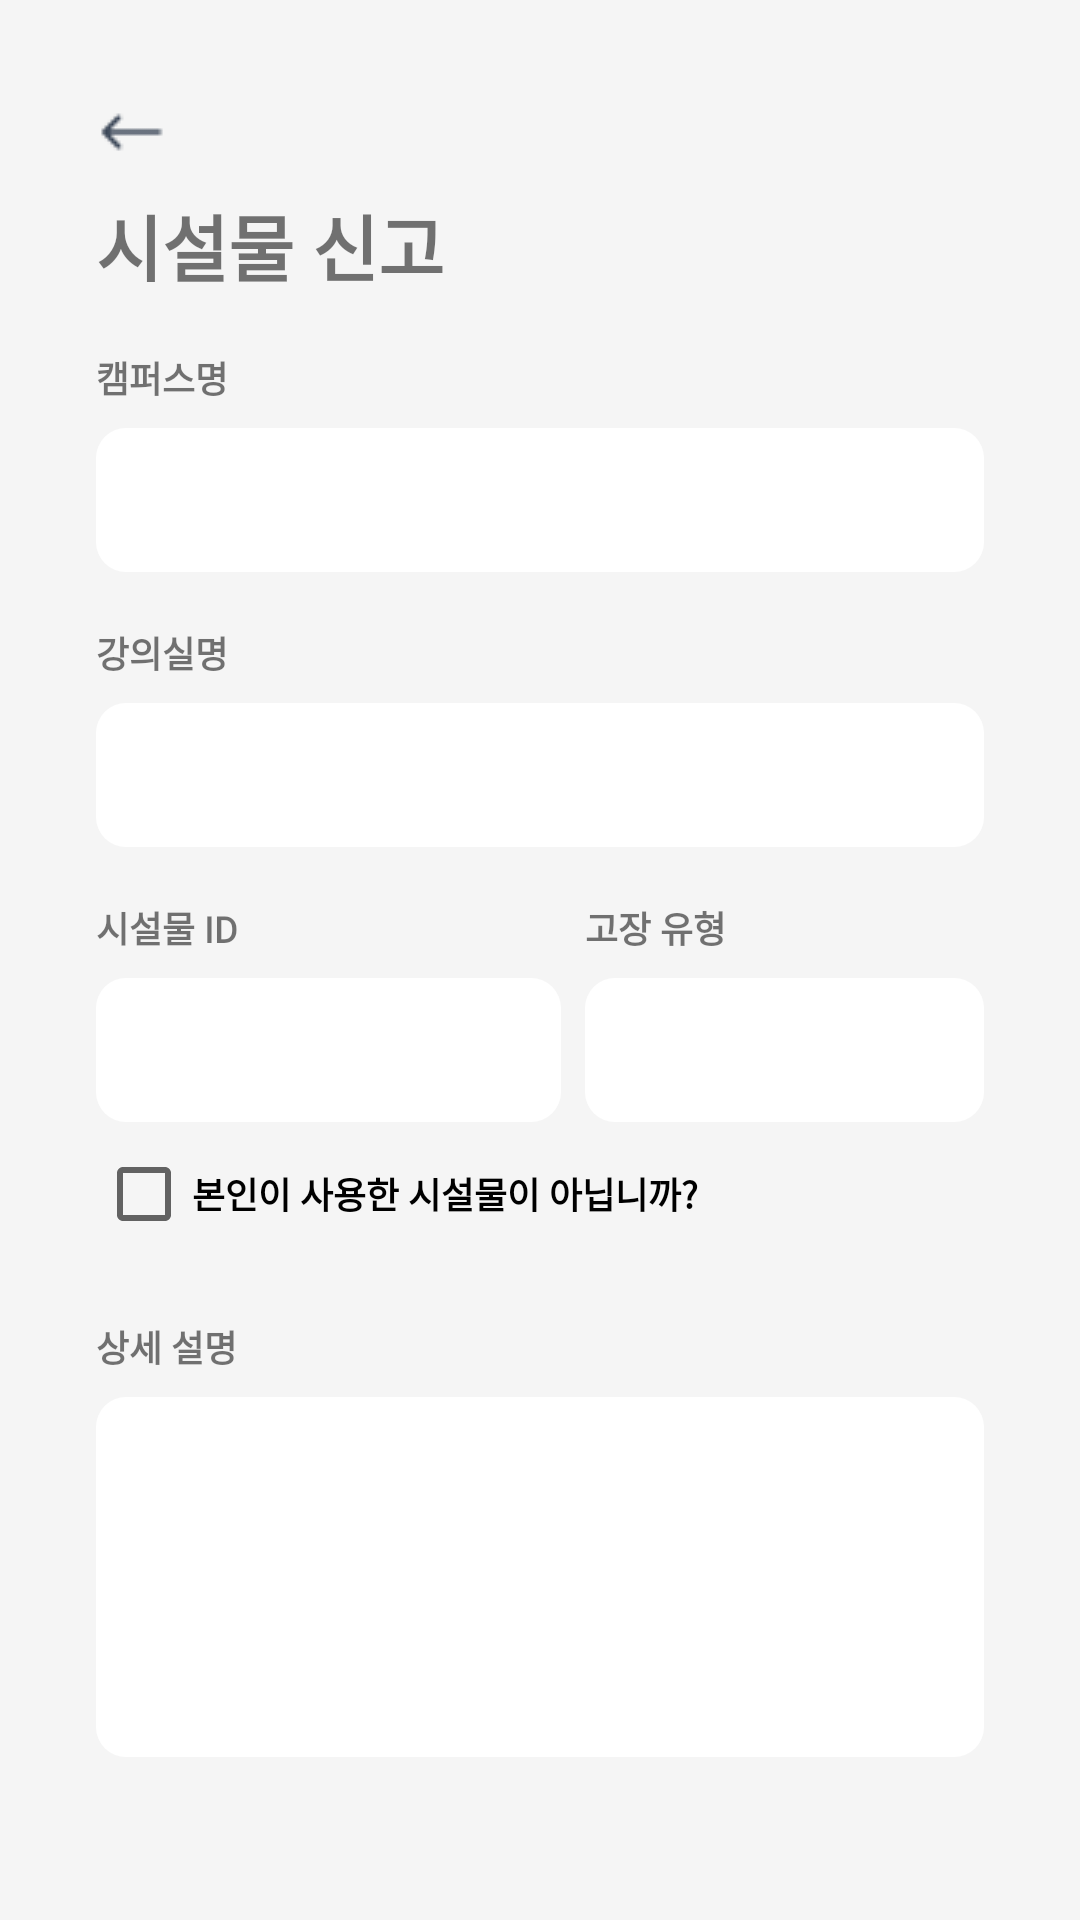

Screen size 1080w x 1920h. Icon name, then its center in pixels as (x,y):
back: (132,132)
